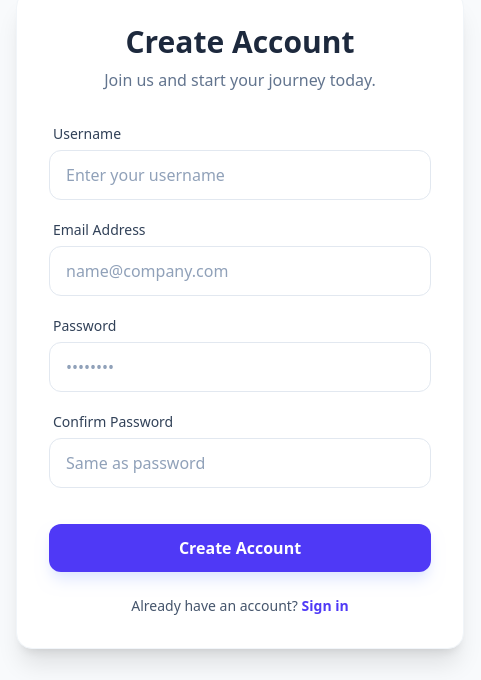
SignUp Integration Test › SignUp Fail › Validation Error › When Username is empty,show the Error message under Username field
Type "Awyd899?" into the password field with placeholder "••••••••" at (240, 367), box [49,342,431,392]
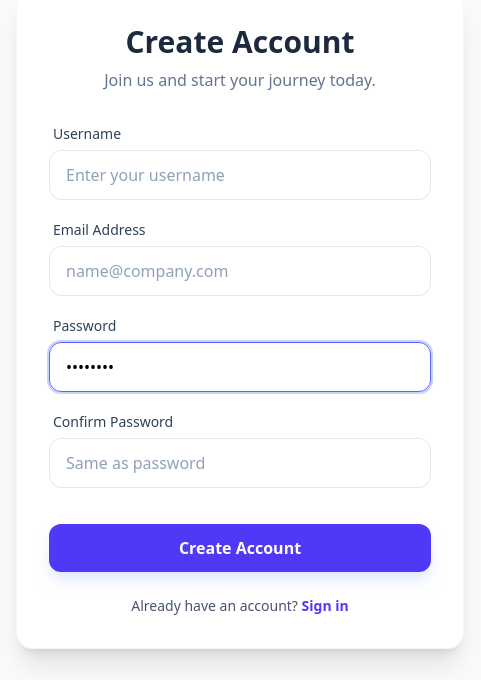
Type "Awyd899?" into the password field with placeholder "Same as password" at (240, 463), box [49,438,431,488]
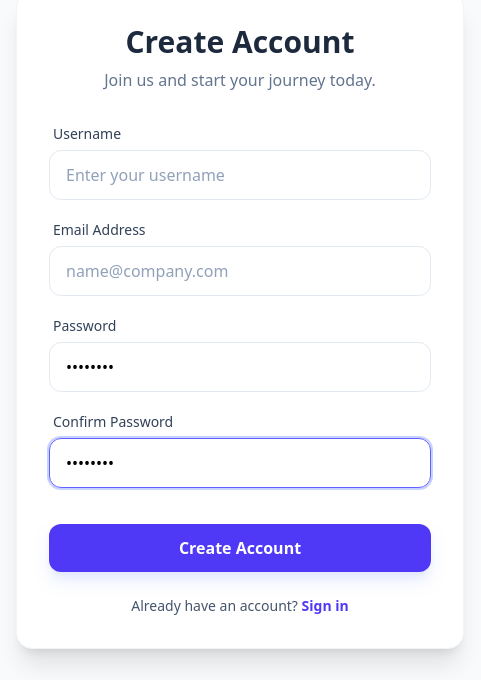
Type "email@email.com" into the field with placeholder "name@company.com" at (240, 271), box [49,246,431,296]
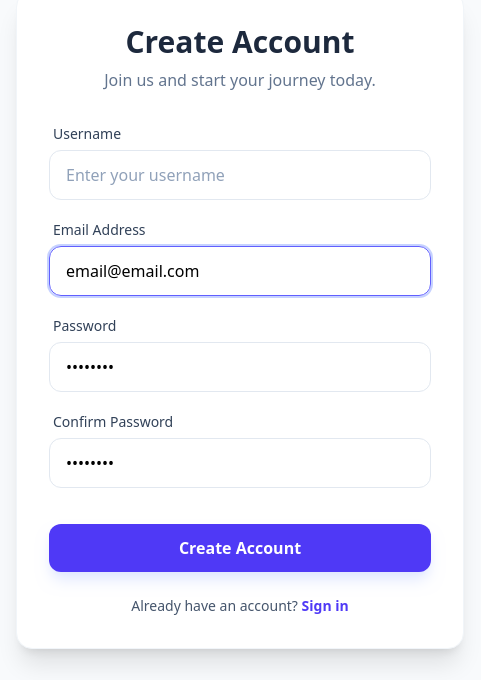
Click the button "Create Account" at (240, 548), box [49,524,431,572]
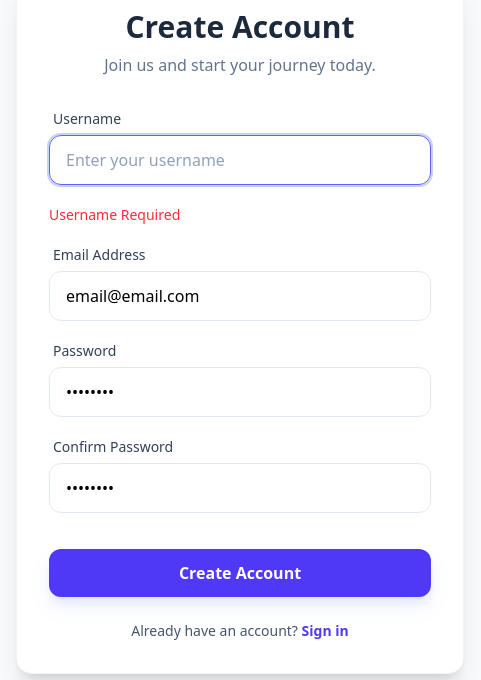
expect the text "Username Required" is shown: met, box [49,205,180,224]
